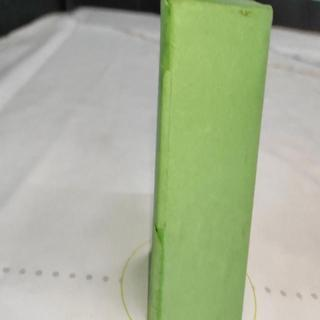greenbox: (145, 0, 274, 320)
